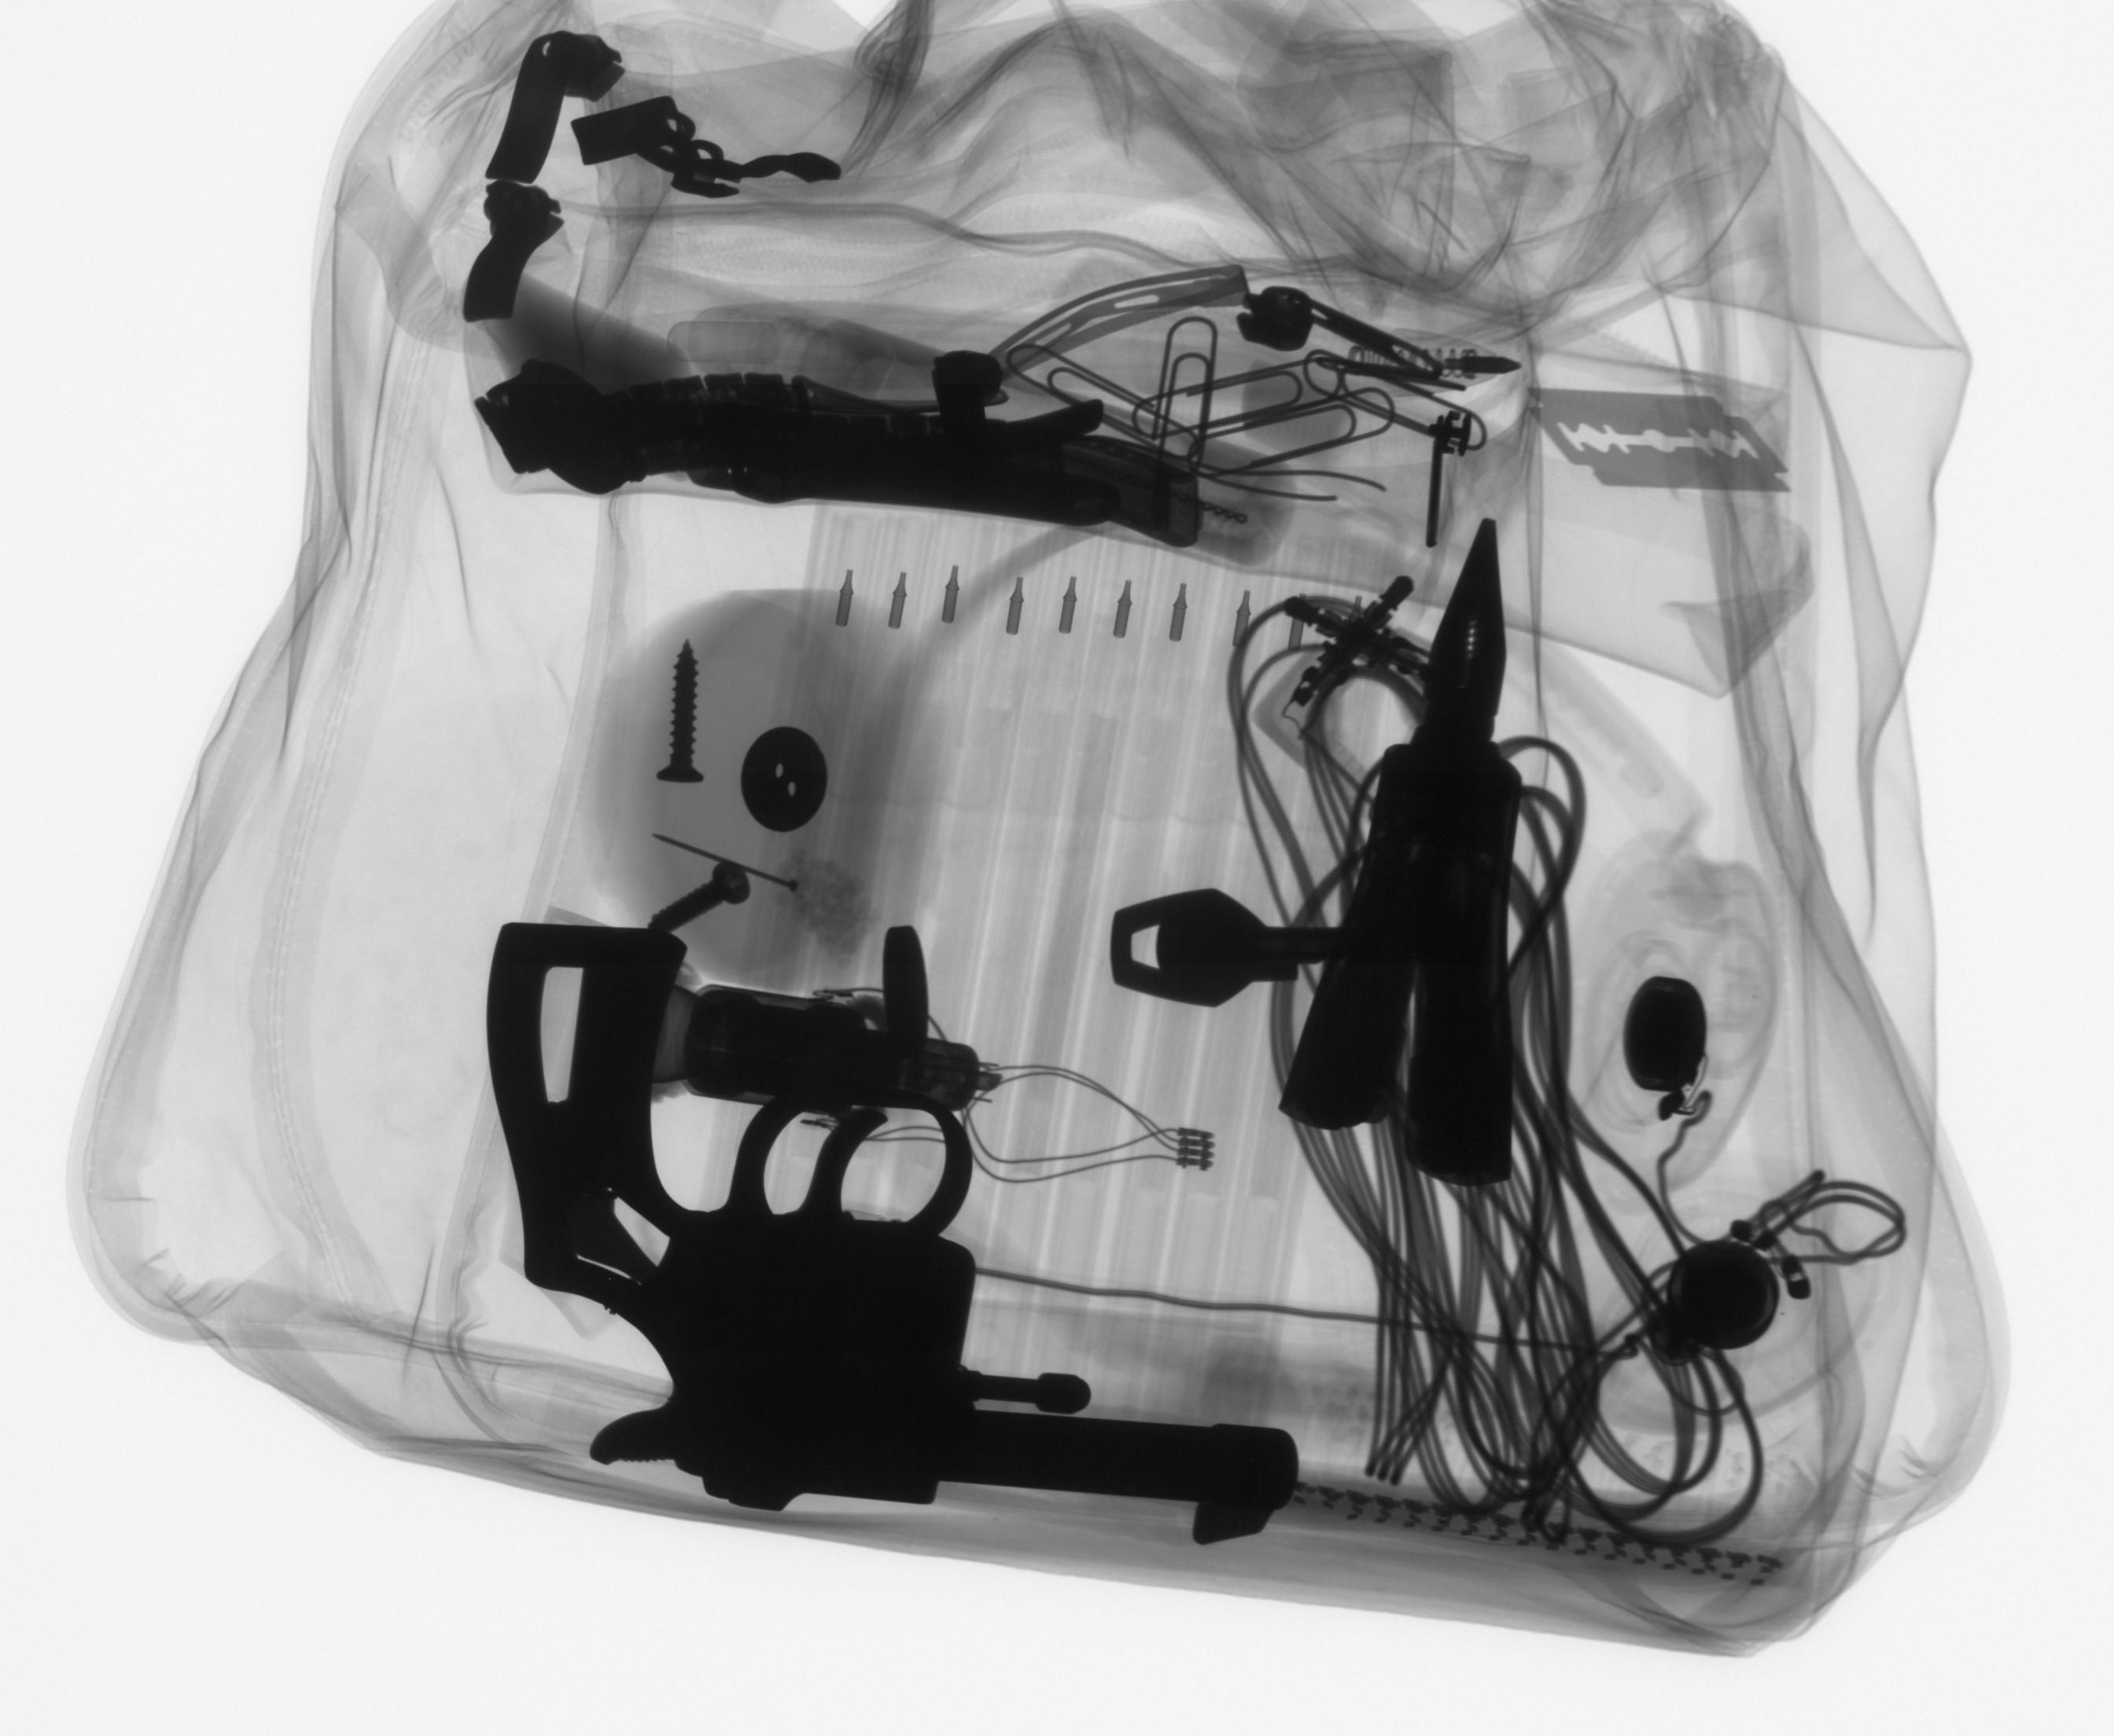Handgun: (476, 911, 1308, 1557)
RazorBlade: (1517, 374, 1803, 509)
